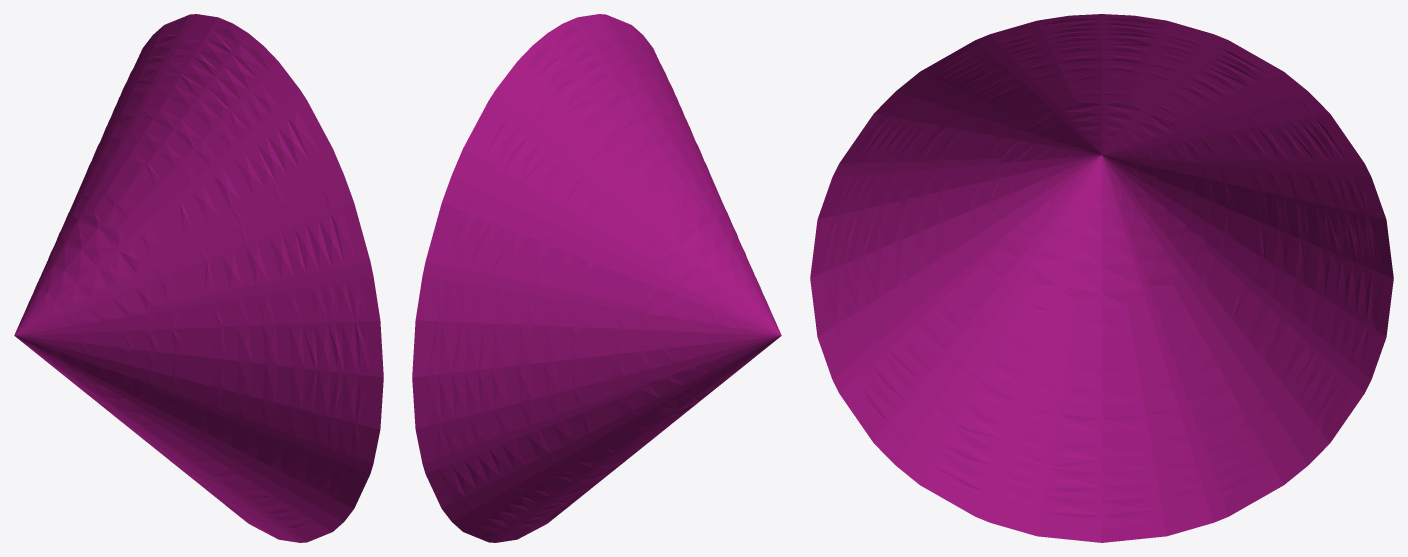
3 renders of one model, left to right at view 1: azimuth 30°, elevation 25°; view 2: azimuth 150°, elevation 25°; view 3: azimuth 270°, elevation 25°, orthographic. The views are drawn at different scales.
Parts seen in each view (by area): view 1: X; view 2: X; view 3: X.
Boxes of the visible parts, bbox=[...] form: X: bbox=[14, 14, 383, 542]; X: bbox=[412, 14, 781, 542]; X: bbox=[810, 14, 1393, 542].
Bounding box in the file's own units: 5 × 10 × 10.
